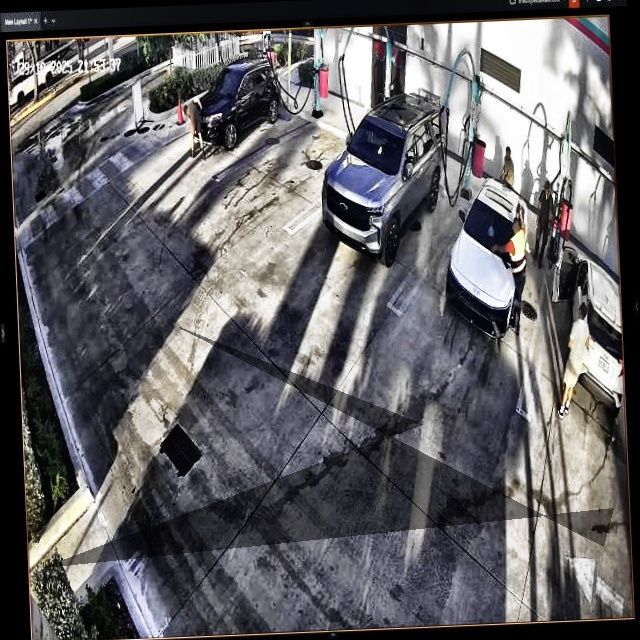Car: (318, 91, 446, 265), (445, 178, 533, 342), (192, 59, 282, 154)
